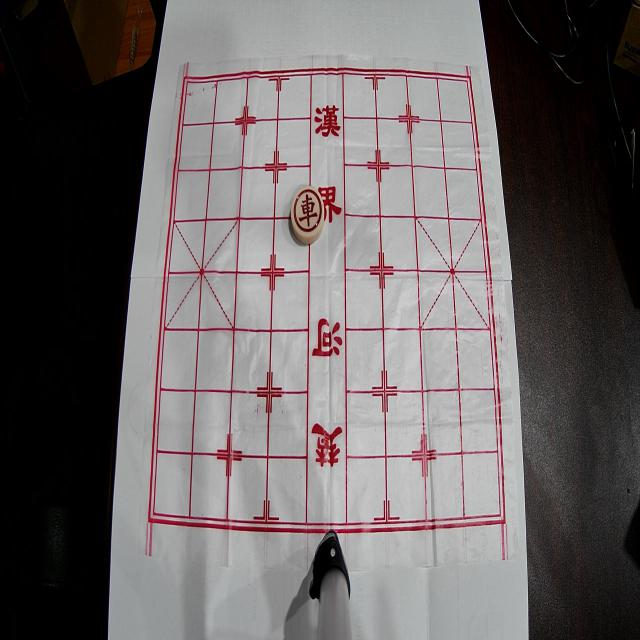red-chariot: (291, 186, 324, 244)
